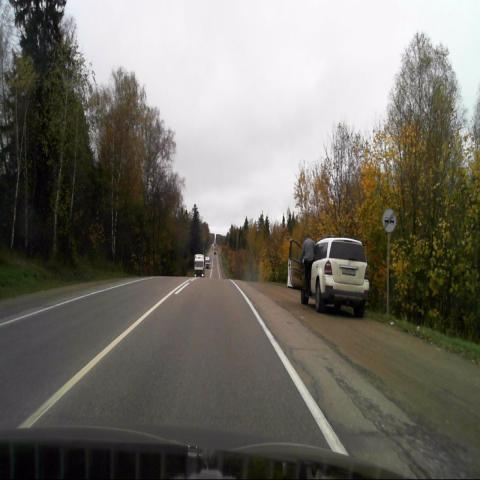3_21: (382, 209, 396, 233)
